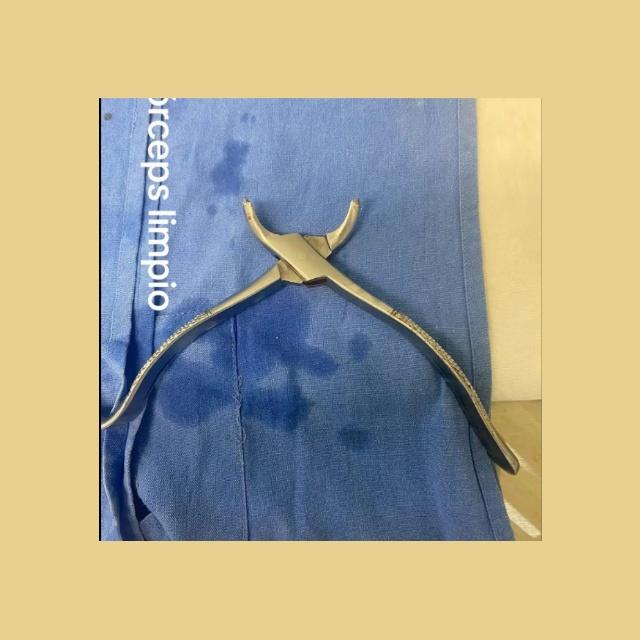forceps: (106, 200, 521, 476)
